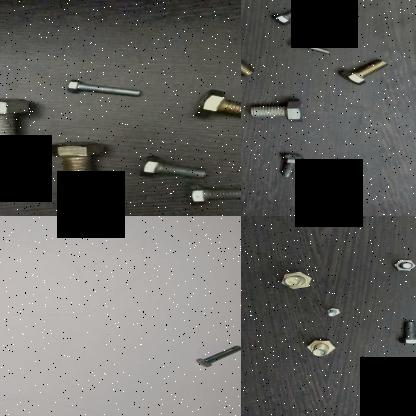Bolts: (41, 132, 113, 206), (63, 68, 145, 106), (136, 152, 213, 182), (0, 88, 33, 156), (186, 86, 241, 124), (333, 57, 393, 86), (244, 98, 308, 122), (182, 181, 241, 207), (196, 341, 241, 369), (268, 2, 320, 26), (281, 36, 337, 56), (272, 150, 308, 176), (302, 332, 340, 356), (392, 315, 416, 346), (280, 270, 316, 290), (241, 40, 258, 77), (390, 256, 416, 273), (321, 303, 346, 319)
